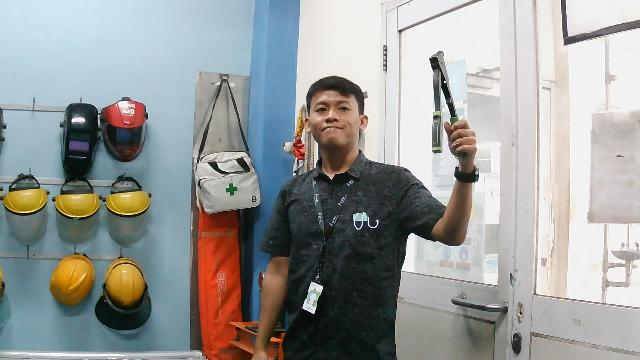tang_rivet: (425, 47, 468, 157)
